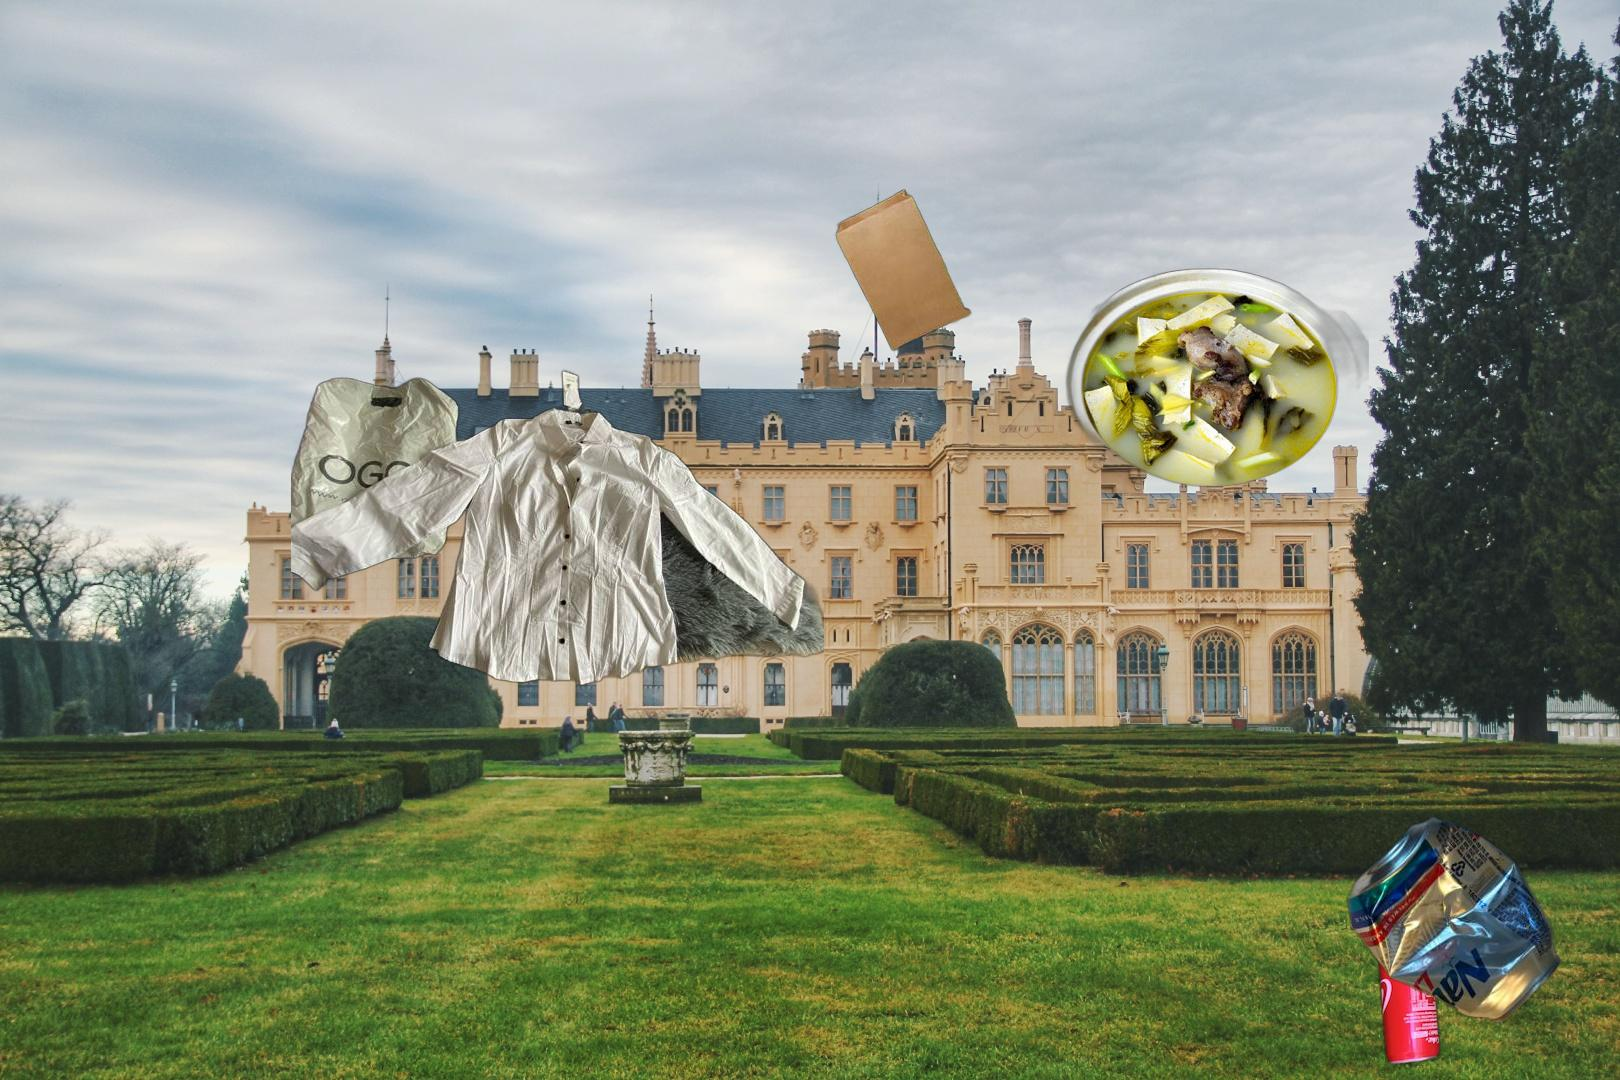battery: (1593, 372, 1620, 1080)
biological: (1060, 266, 1369, 504)
clothes: (290, 336, 824, 689)
metal-cans: (1343, 812, 1565, 1026), (1372, 916, 1444, 1072)
paper-bag: (833, 188, 973, 352)
